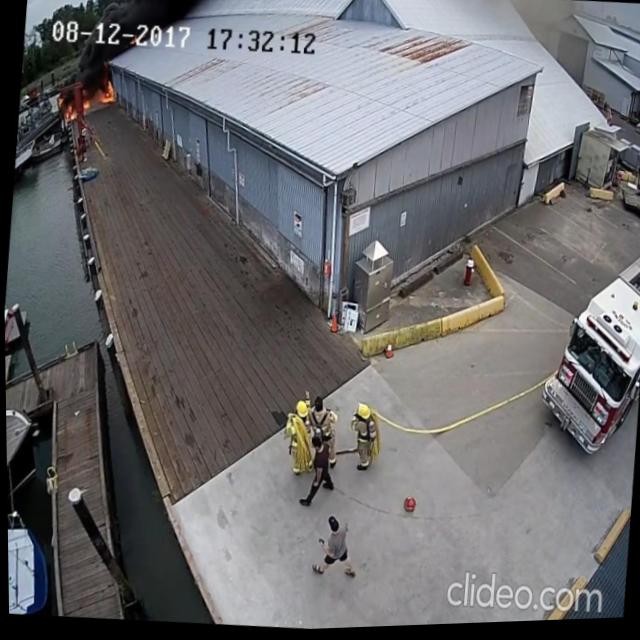fire: (81, 72, 118, 118), (52, 93, 80, 126)
